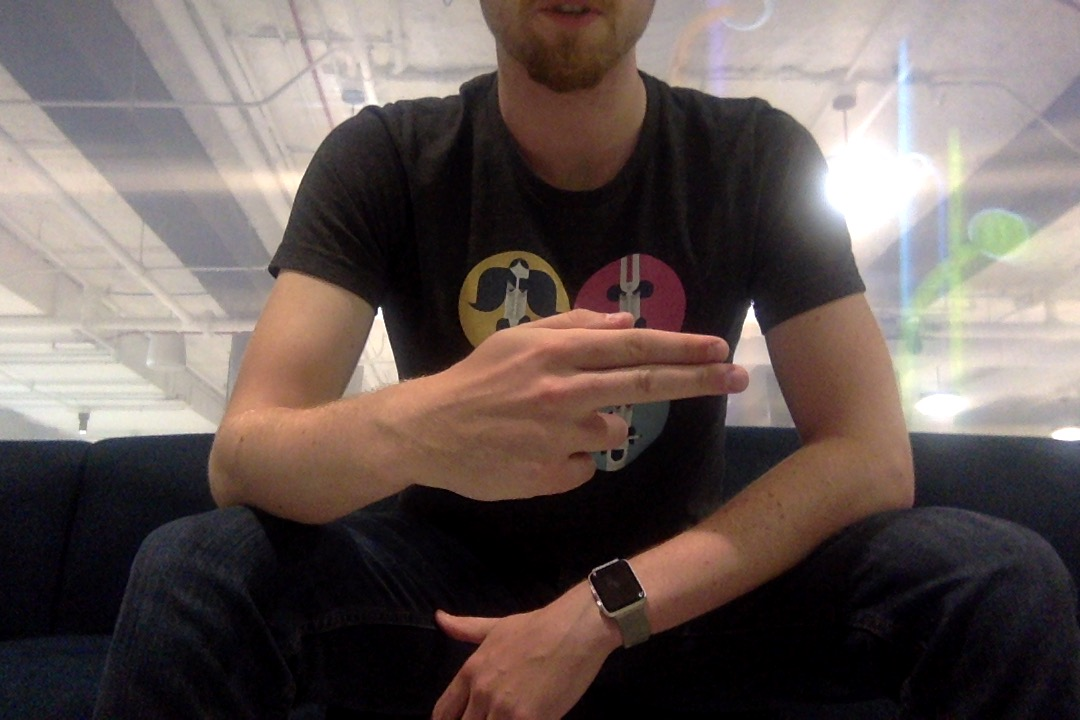h: (417, 306, 753, 498)
